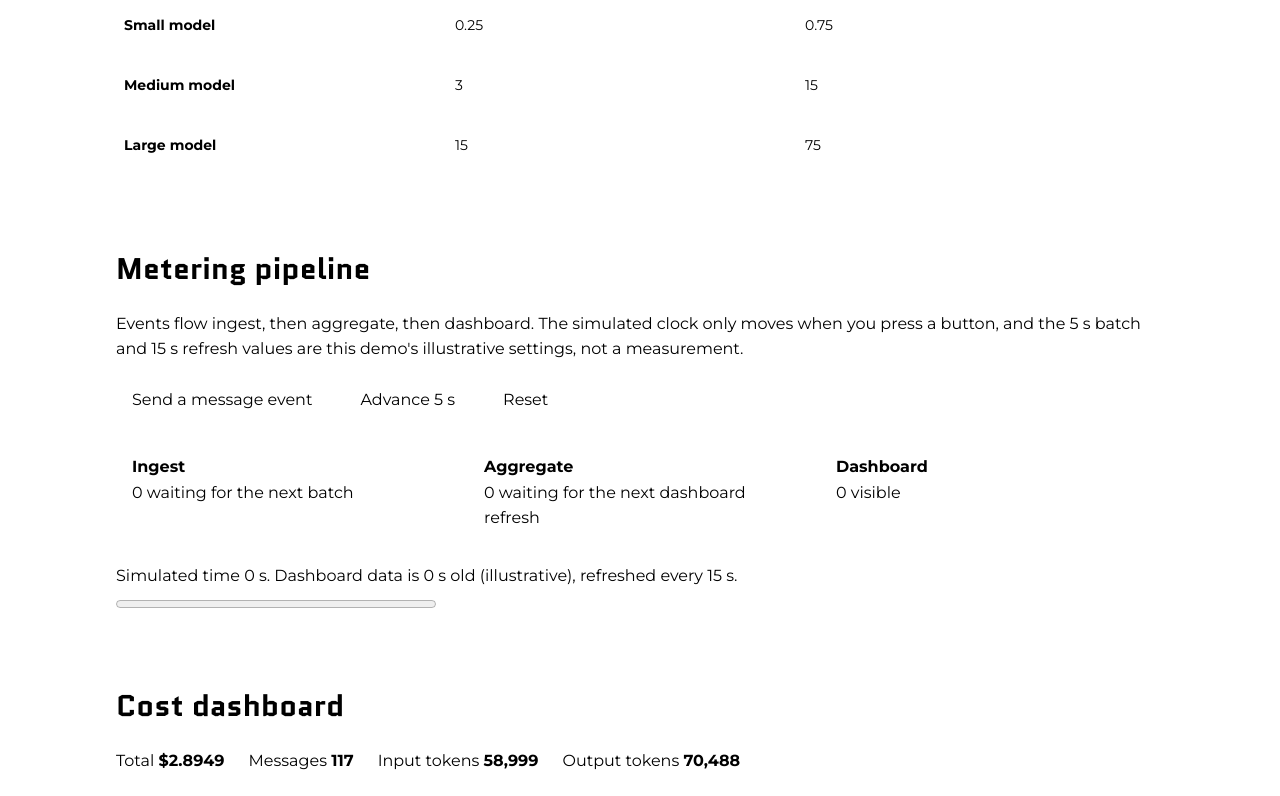
Test: AiBillingLab › advances the pipeline
(page scrolled)
Click the button "Send a message event" at coordinates (222, 400), box left=116, top=378, right=328, bottom=422
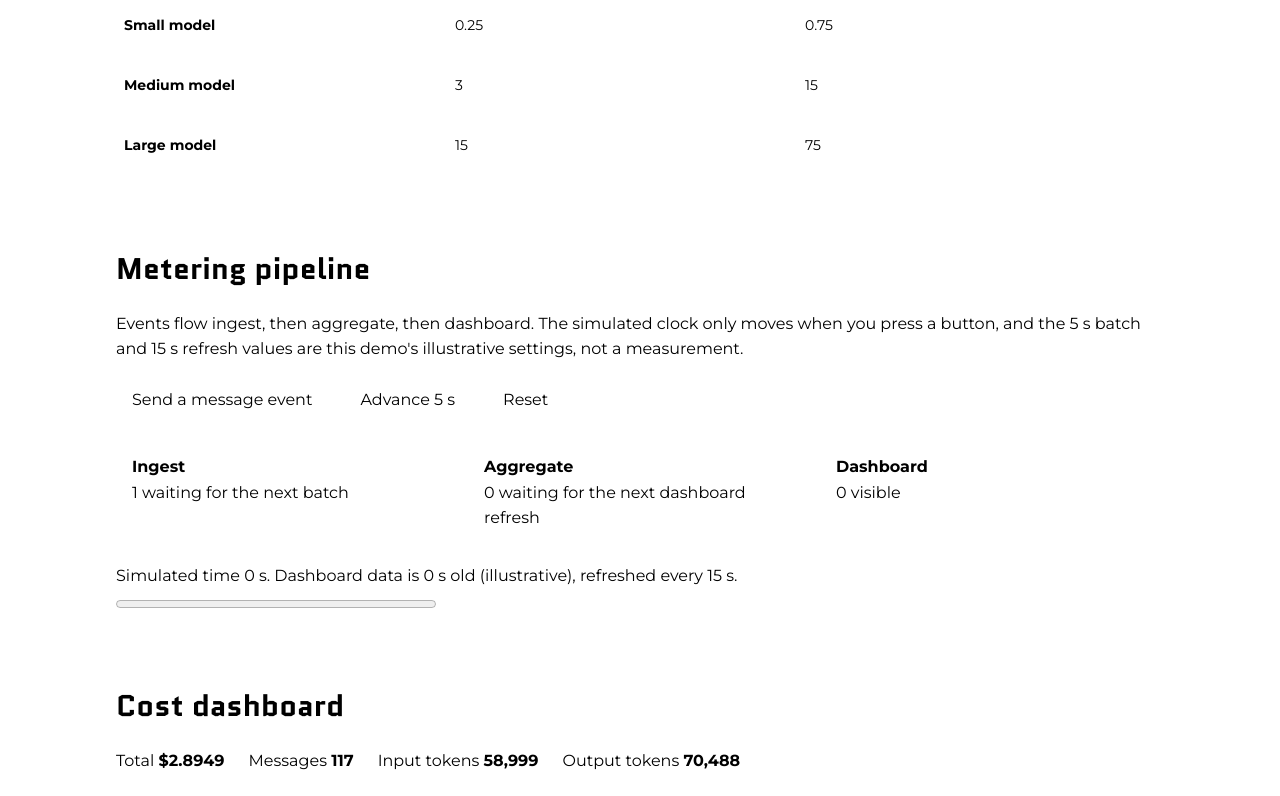
Result: the text "1 waiting for the next batch" is shown at left=132, top=483, right=349, bottom=502
Click the button "Advance 5 s" at coordinates (408, 400), box left=344, top=378, right=471, bottom=422
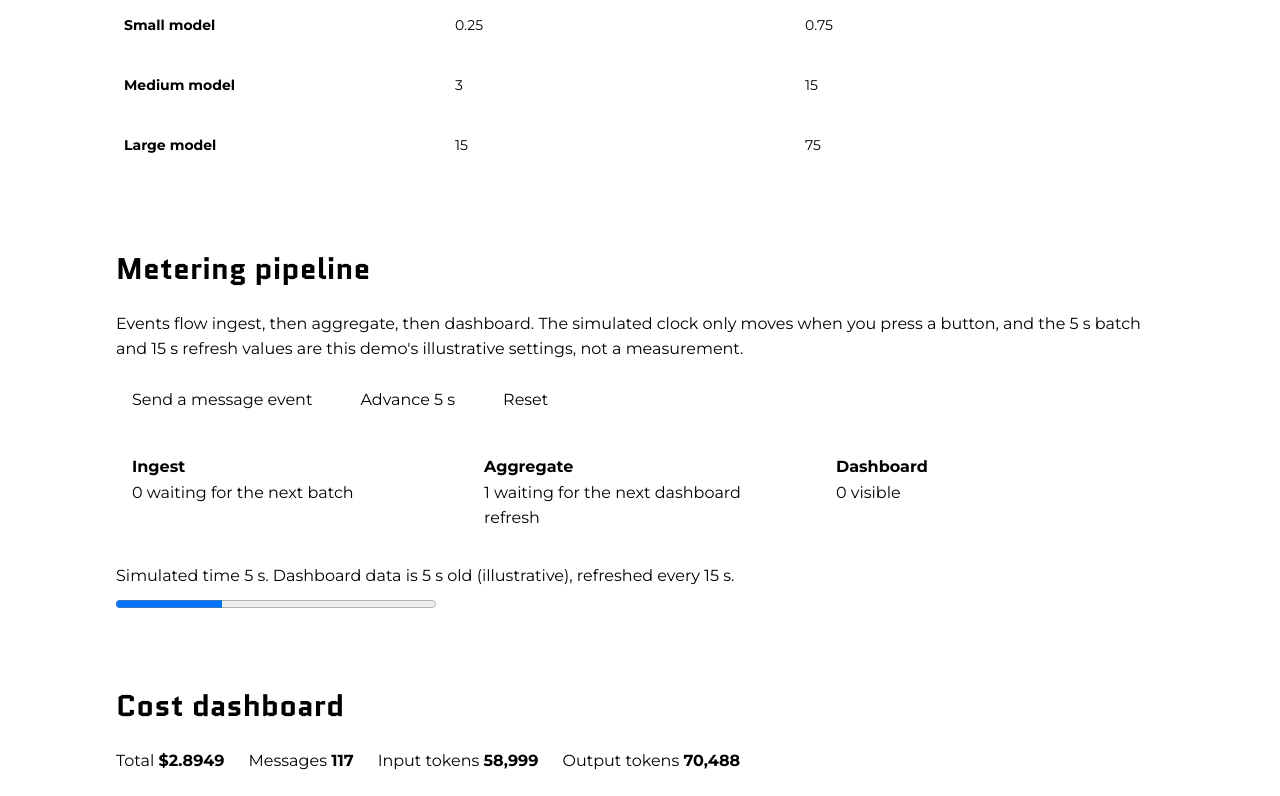
Click the button "Advance 5 s" at coordinates (408, 400), box left=344, top=378, right=471, bottom=422
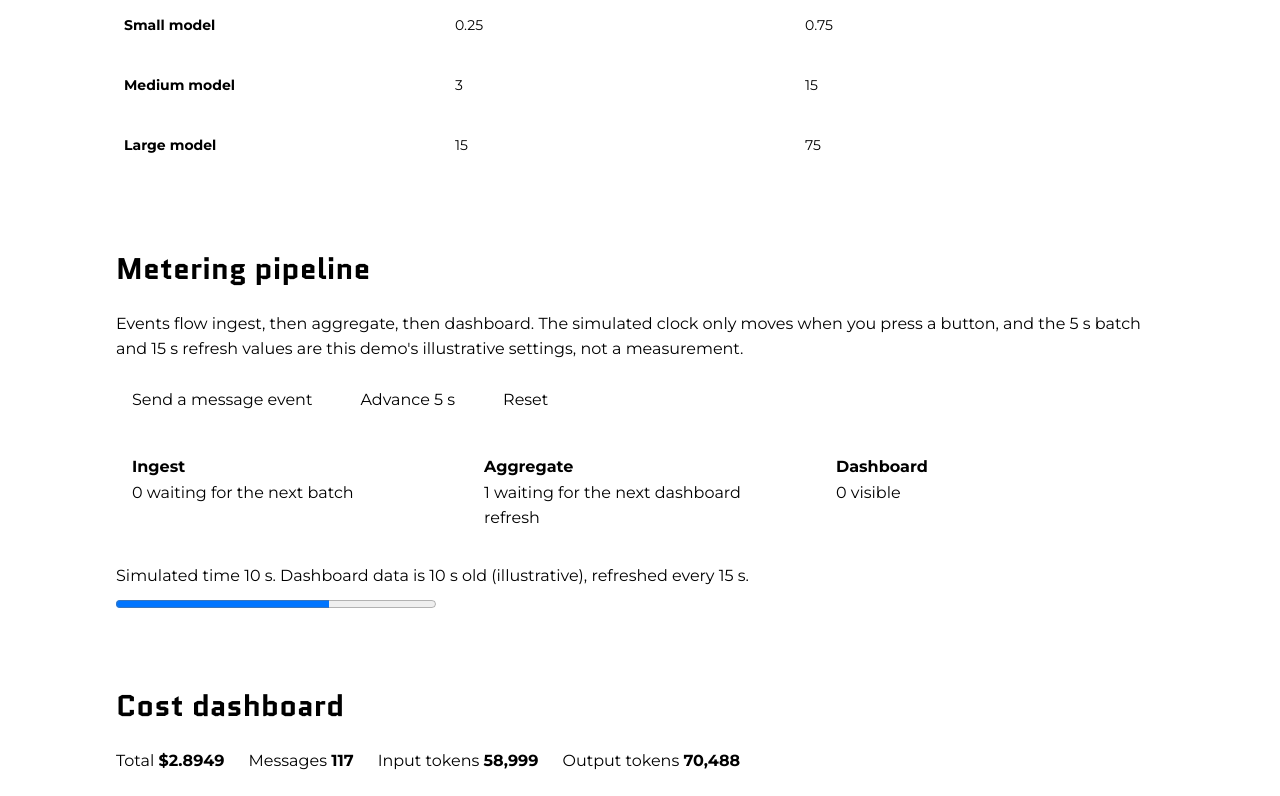
Click the button "Advance 5 s" at coordinates (408, 400), box left=344, top=378, right=471, bottom=422
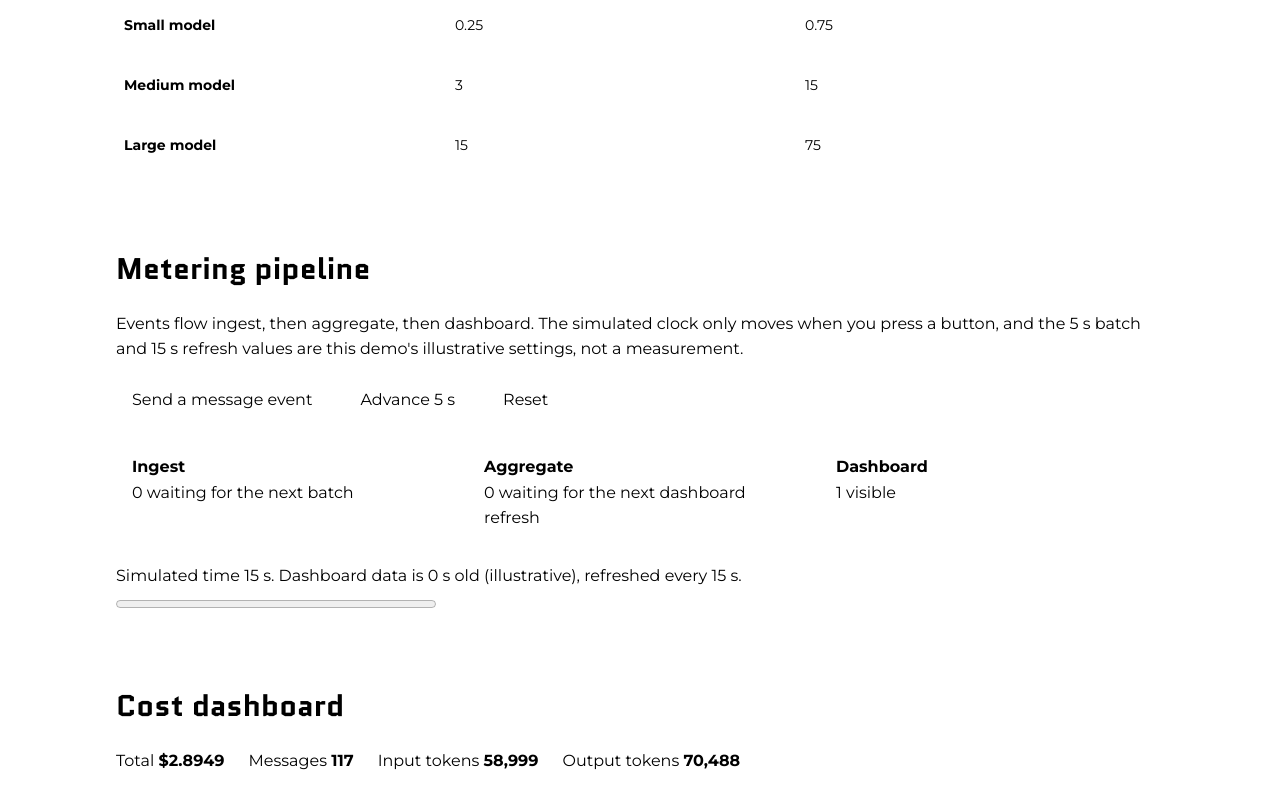
Result: the text "1 visible" is shown at left=836, top=483, right=896, bottom=502
Click the button "Reset" at coordinates (526, 400), box left=487, top=378, right=564, bottom=422
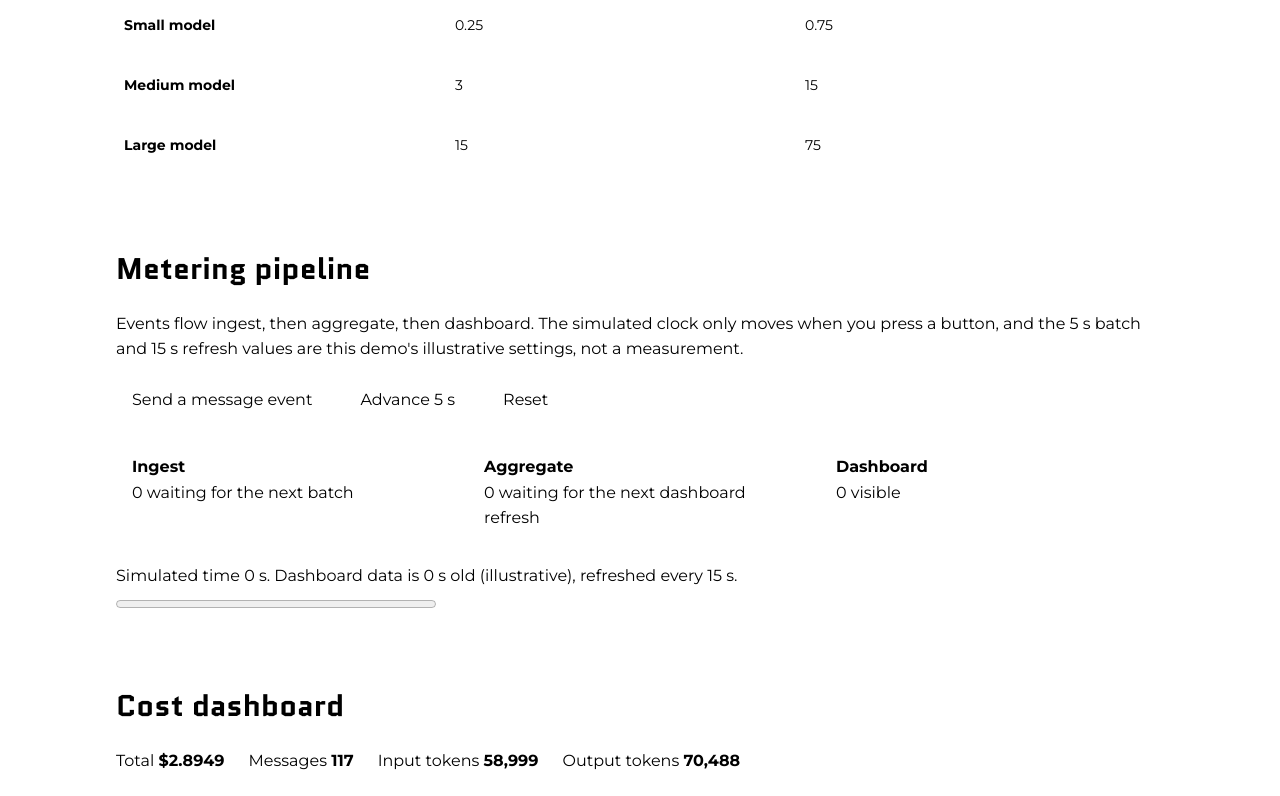
Result: the text "0 visible" is shown at left=836, top=483, right=901, bottom=502
